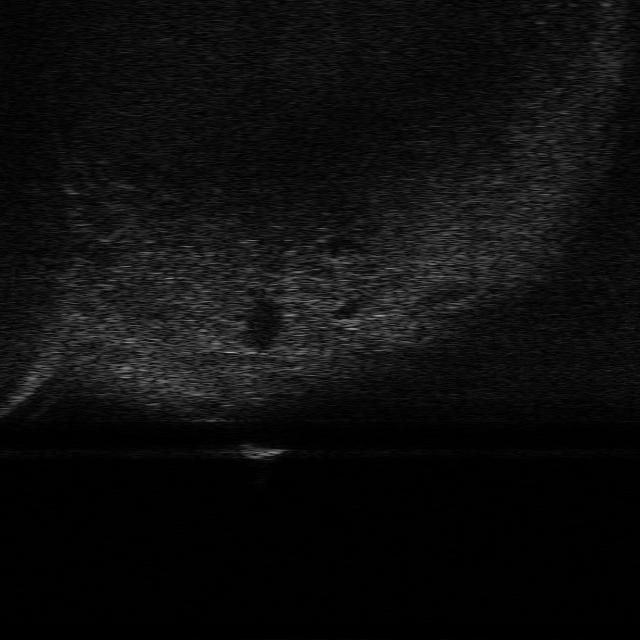cube: (230, 440, 292, 462)
